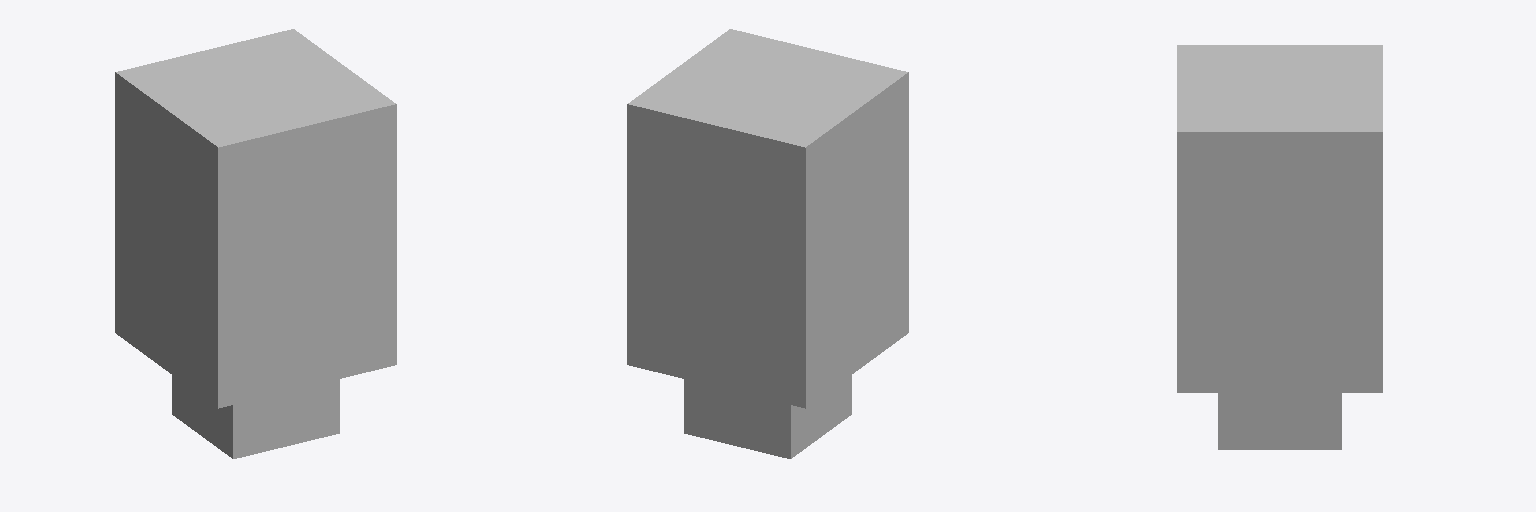
File: Tree.obj
3 renders of one model, left to right at view 1: azimuth 30°, elevation 25°; view 2: azimuth 150°, elevation 25°; view 3: azimuth 270°, elevation 25°, orthographic.
Visible parts, largest first — view 1: Tree; view 2: Tree; view 3: Tree.
Part boxes in pixels (bbox=[...]): Tree: bbox=[115, 29, 396, 458]; Tree: bbox=[627, 29, 908, 458]; Tree: bbox=[1177, 45, 1382, 449].
Size of the model in its own units: 5 by 9 by 5.